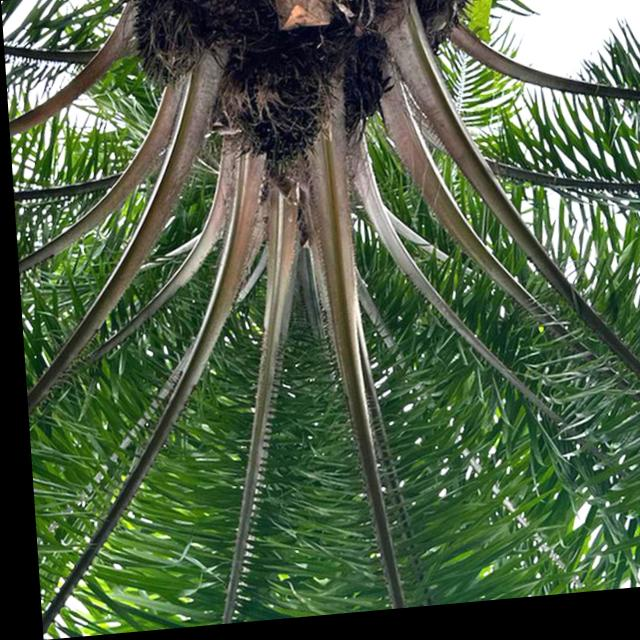unripe: (214, 58, 325, 174)
